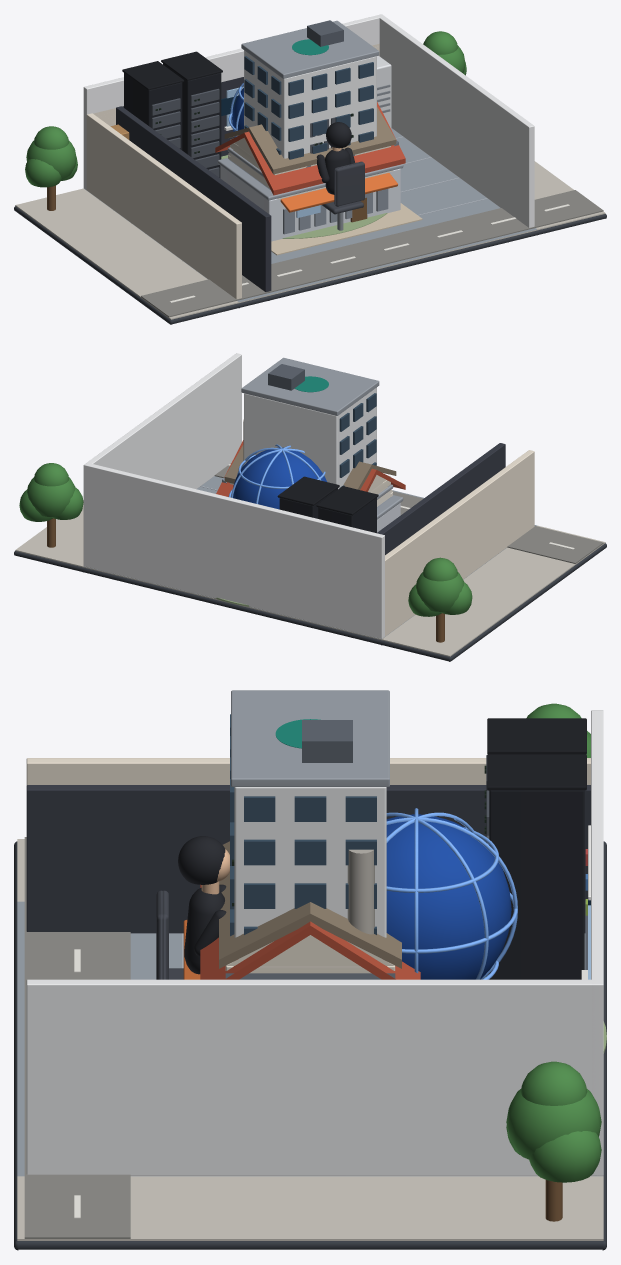
Rendered from explain-kit.glb.
The picture shows the model from 3 angles, top to bottom: view 1: azimuth 30°, elevation 25°; view 2: azimuth 150°, elevation 25°; view 3: azimuth 270°, elevation 25°; orthographic projection. The views are drawn at different scales.
Parts seen in each view (by area): view 1: Zone_town, Zone_datacenter, Zone_home, Kit_office, Zone_office, Zone_outside, Kit_datacenter, Kit_house, Kit_bank, Kit_store, Kit_attacker, Kit_pc (+2 smaller); view 2: Zone_datacenter, Zone_town, Kit_office, Zone_home, Zone_internet, Zone_outside, Kit_bank, Zone_office, Kit_house, Kit_datacenter; view 3: Zone_office, Zone_town, Zone_datacenter, Kit_office, Zone_outside, Zone_internet, Zone_home, Kit_bank, Kit_attacker, Kit_house, Kit_factory.
Boxes of the visible parts, <box> form: Zone_town: <box>14,31,606,324</box>; Zone_datacenter: <box>83,14,534,227</box>; Zone_home: <box>86,43,422,299</box>; Kit_office: <box>241,20,379,159</box>; Zone_office: <box>84,38,536,303</box>; Zone_outside: <box>116,77,271,291</box>; Kit_datacenter: <box>217,158,403,241</box>; Kit_house: <box>215,102,405,222</box>; Kit_bank: <box>224,107,396,175</box>; Kit_store: <box>227,147,397,212</box>; Kit_attacker: <box>316,122,362,229</box>; Kit_pc: <box>324,162,364,230</box>; Zone_datacenter: <box>83,353,384,645</box>; Zone_town: <box>14,463,606,661</box>; Kit_office: <box>241,357,379,489</box>; Zone_home: <box>85,450,534,638</box>; Zone_internet: <box>215,444,326,606</box>; Zone_outside: <box>377,443,505,554</box>; Kit_bank: <box>224,445,396,493</box>; Zone_office: <box>83,476,536,640</box>; Kit_house: <box>216,440,405,500</box>; Kit_datacenter: <box>377,495,403,532</box>; Zone_office: <box>16,825,604,1178</box>; Zone_town: <box>14,703,606,1250</box>; Zone_datacenter: <box>26,710,603,1175</box>; Kit_office: <box>230,690,389,937</box>; Zone_outside: <box>26,785,590,933</box>; Zone_internet: <box>386,808,606,1053</box>; Zone_home: <box>26,758,590,979</box>; Kit_bank: <box>219,841,401,973</box>; Kit_attacker: <box>162,836,229,979</box>; Kit_house: <box>200,884,420,979</box>; Kit_factory: <box>225,849,395,979</box>.
Bounding box in the file's own units: 0.91 × 0.352 × 0.56.
